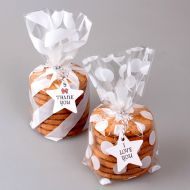Snack: (82, 43, 164, 187)
